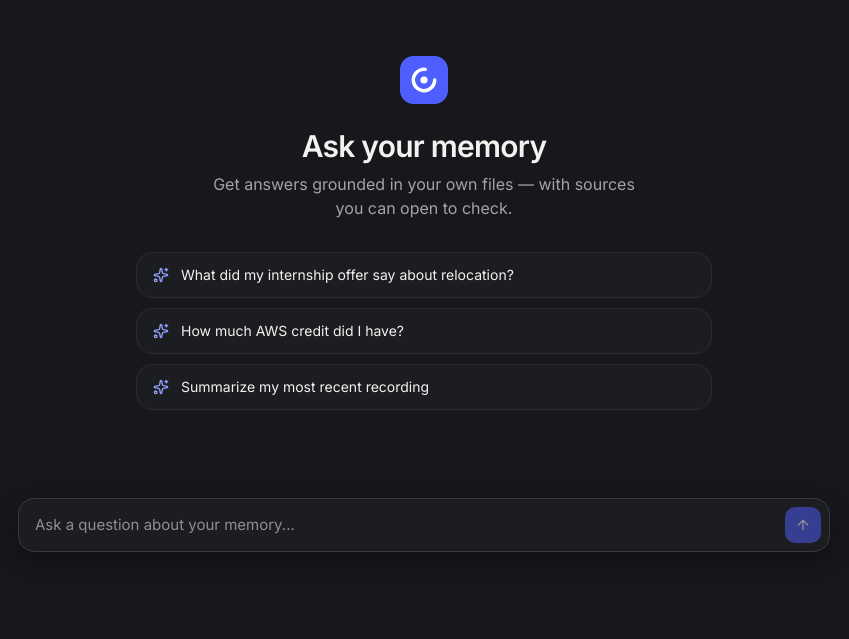
AskPage › starts a fresh conversation and shows a notice when the session has expired, without transparently retrying
The image size is (849, 639).
Step 1. Type "first question" into the field with placeholder "Ask a question about your memory..." → (406, 525), box [35,508,777,542]
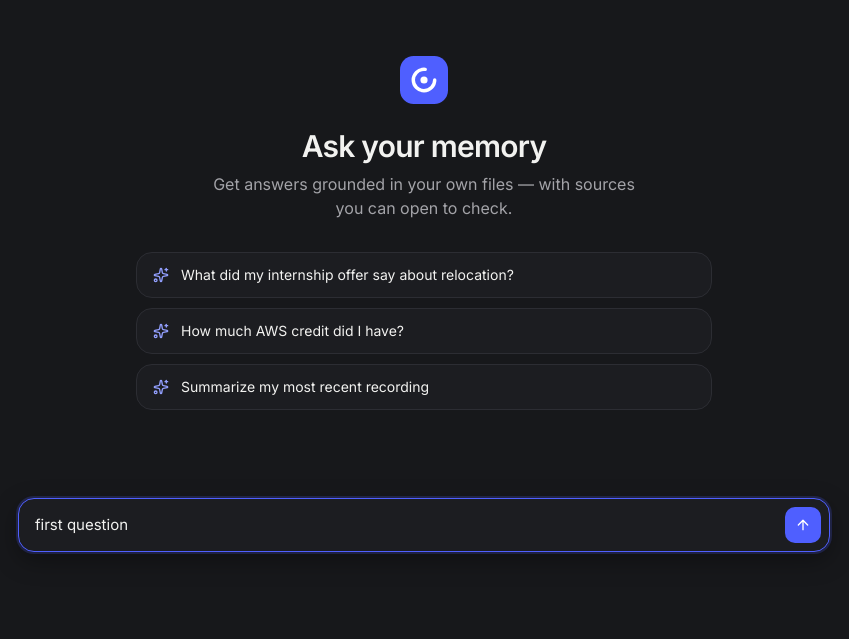
Step 2. Click the button named "Ask" → click(803, 525), box [785,507,821,543]
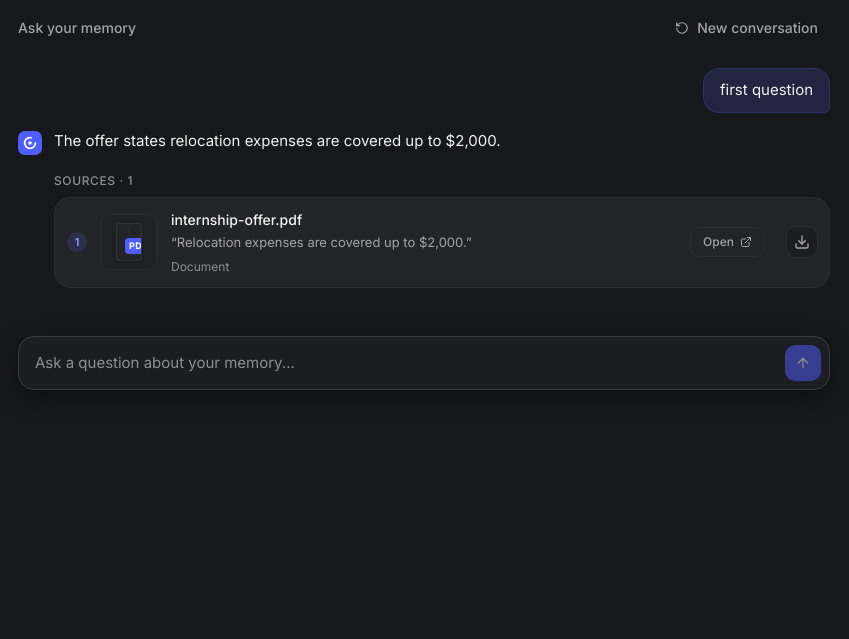
Now the text "internship-offer.pdf" is shown, box [171,211,302,228]
Step 3. Type "a follow up after expiry" into the field with placeholder "Ask a question about your memory..." → (406, 363), box [35,346,777,380]
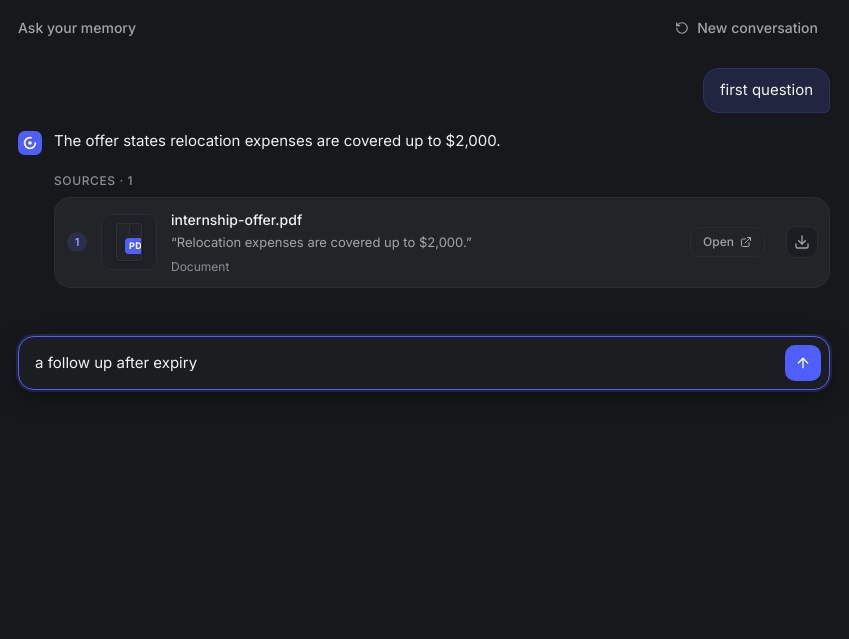
Step 4. Click the button named "Ask" → click(803, 363), box [785,345,821,381]
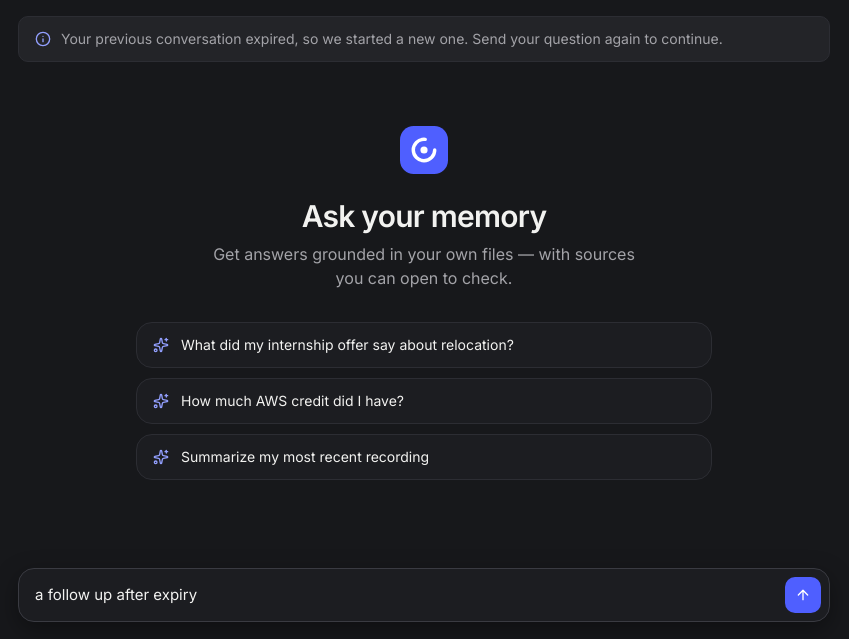
Now the text "previous conversation expired" is shown, box [61,30,723,47]
Now the button "internship-offer.pdf" is gone
